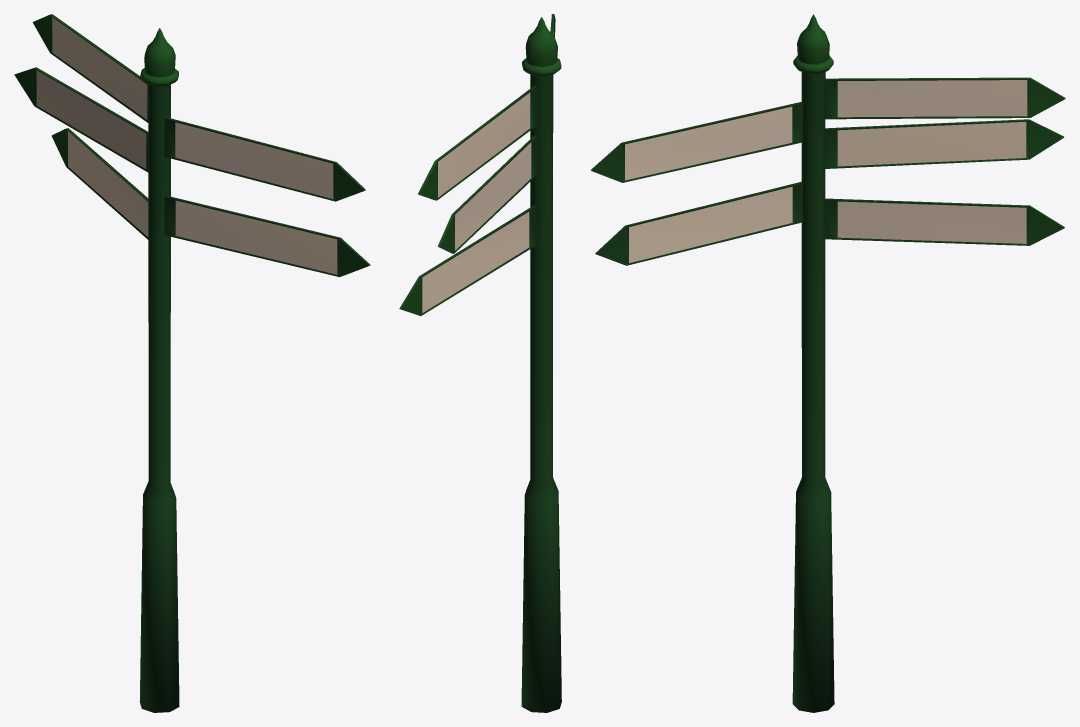
The model's file is MetalDirectionSign_Type3.fbx.
The picture shows the model from 3 angles, left to right: view 1: azimuth 30°, elevation 25°; view 2: azimuth 150°, elevation 25°; view 3: azimuth 270°, elevation 25°; orthographic projection.
Parts seen in each view (by area): view 1: MetalDirectionSign_Type3; view 2: MetalDirectionSign_Type3; view 3: MetalDirectionSign_Type3.
Boxes of the visible parts, x1,y1,x2,y2 form: MetalDirectionSign_Type3: (14,14,370,712); MetalDirectionSign_Type3: (399,14,561,712); MetalDirectionSign_Type3: (591,14,1065,712).
Bounding box in the file's own units: 56.24 × 288 × 178.
